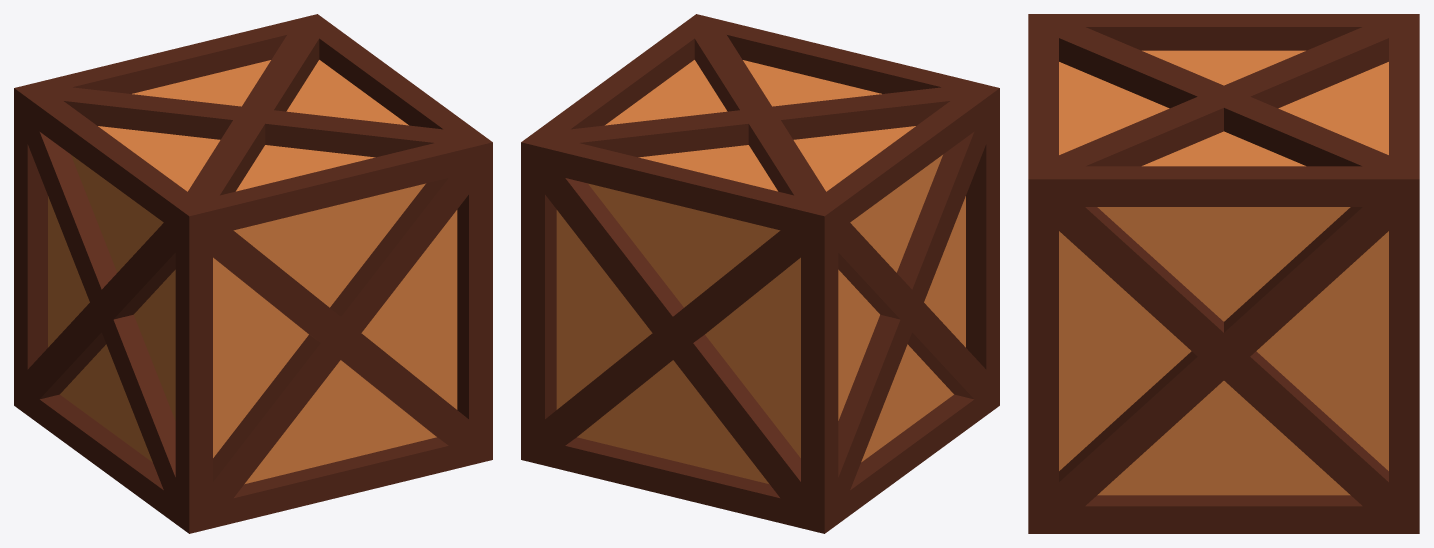
Rendered from Crate.fbx.
The picture shows the model from 3 angles, left to right: view 1: azimuth 30°, elevation 25°; view 2: azimuth 150°, elevation 25°; view 3: azimuth 270°, elevation 25°; orthographic projection. The views are drawn at different scales.
Parts seen in each view (by area): view 1: Cube.003; view 2: Cube.003; view 3: Cube.003.
Boxes of the visible parts, x1,y1,x2,y2 form: Cube.003: [14, 14, 492, 533]; Cube.003: [521, 14, 999, 533]; Cube.003: [1028, 14, 1419, 533].
Size of the model in its own units: 140 by 140 by 140.
